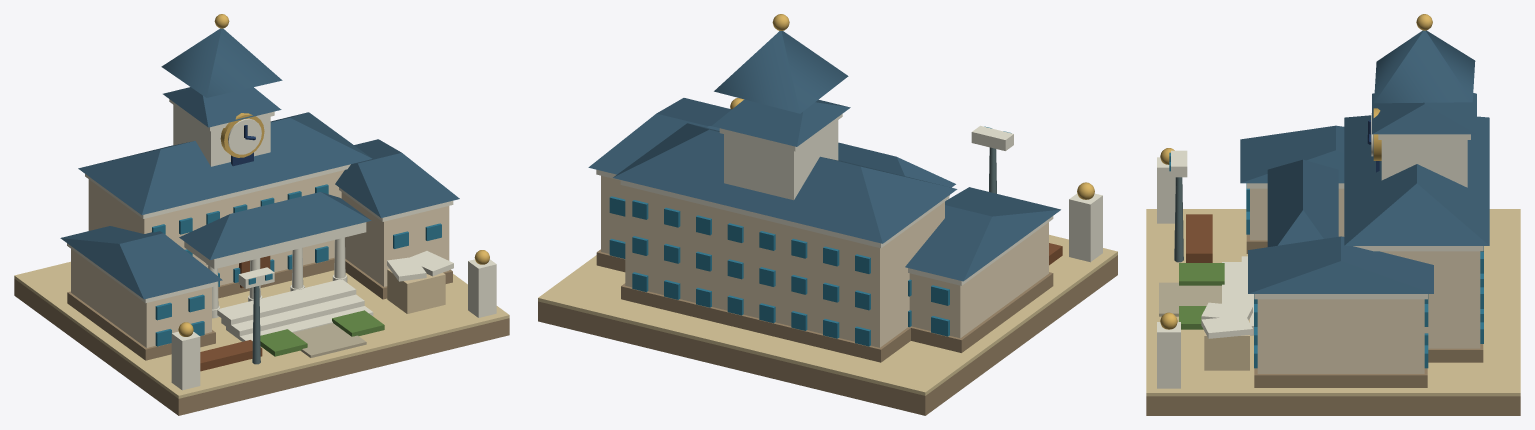
File: university-lv3.glb
3 renders of one model, left to right at view 1: azimuth 30°, elevation 25°; view 2: azimuth 150°, elevation 25°; view 3: azimuth 270°, elevation 25°, orthographic. The views are drawn at different scales.
Parts seen in each view (by area): view 1: foundation_sand, lecture_hall_roof_roof, foundation_stoneDark, portico_pediment_roof, library_wing_roof_roof, lecture_hall_cream, library_wing_cream, science_wing_roof_roof, entrance_steps_white, science_wing_cream, tower_cap_roof, campus_gate_white (+22 smaller); view 2: lecture_hall_cream, lecture_hall_roof_roof, foundation_sand, foundation_stoneDark, library_wing_roof_roof, lecture_hall_windows_glass, library_wing_cream, tower_cap_roof, clock_tower_white, lecture_hall_stoneDark, clock_tower_roof_roof, science_wing_roof_roof (+9 smaller); view 3: foundation_sand, lecture_hall_roof_roof, science_wing_cream, science_wing_roof_roof, foundation_stoneDark, tower_cap_roof, portico_pediment_roof, lecture_hall_cream, library_wing_roof_roof, clock_tower_white, clock_tower_roof_roof, campus_gate_white (+16 smaller).
Part boxes in pixels (left/top/right/bottom): foundation_sand: left=14, top=261, right=509, bottom=398; lecture_hall_roof_roof: left=78, top=112, right=372, bottom=214; foundation_stoneDark: left=14, top=279, right=509, bottom=415; portico_pediment_roof: left=179, top=192, right=371, bottom=259; library_wing_roof_roof: left=60, top=226, right=222, bottom=299; lecture_hall_cream: left=88, top=170, right=344, bottom=285; library_wing_cream: left=71, top=249, right=211, bottom=347; science_wing_roof_roof: left=335, top=139, right=459, bottom=217; entrance_steps_white: left=217, top=279, right=373, bottom=341; science_wing_cream: left=341, top=192, right=449, bottom=286; tower_cap_roof: left=161, top=28, right=282, bottom=97; campus_gate_white: left=171, top=259, right=496, bottom=390; lecture_hall_cream: left=625, top=186, right=944, bottom=347; lecture_hall_roof_roof: left=613, top=123, right=957, bottom=243; foundation_sand: left=538, top=234, right=1117, bottom=395; foundation_stoneDark: left=538, top=255, right=1117, bottom=415; library_wing_roof_roof: left=905, top=187, right=1060, bottom=281; lecture_hall_windows_glass: left=632, top=200, right=870, bottom=346; library_wing_cream: left=909, top=222, right=1048, bottom=338; tower_cap_roof: left=714, top=31, right=848, bottom=113; clock_tower_white: left=719, top=114, right=842, bottom=200; lecture_hall_stoneDark: left=621, top=283, right=911, bottom=362; clock_tower_roof_roof: left=711, top=99, right=850, bottom=146; science_wing_roof_roof: left=588, top=98, right=731, bottom=174; foundation_sand: left=1146, top=209, right=1520, bottom=396; lecture_hall_roof_roof: left=1344, top=115, right=1489, bottom=245; science_wing_cream: left=1257, top=299, right=1424, bottom=373; science_wing_roof_roof: left=1248, top=236, right=1433, bottom=293; foundation_stoneDark: left=1146, top=396, right=1520, bottom=415; tower_cap_roof: left=1374, top=30, right=1475, bottom=103; portico_pediment_roof: left=1267, top=159, right=1338, bottom=246; lecture_hall_cream: left=1380, top=251, right=1480, bottom=348; library_wing_roof_roof: left=1240, top=125, right=1344, bottom=183; clock_tower_white: left=1378, top=134, right=1470, bottom=187; clock_tower_roof_roof: left=1372, top=93, right=1476, bottom=134; campus_gate_white: left=1157, top=157, right=1180, bottom=388.
Size of the model in its own units: 1 by 0.7837 by 0.8605.
